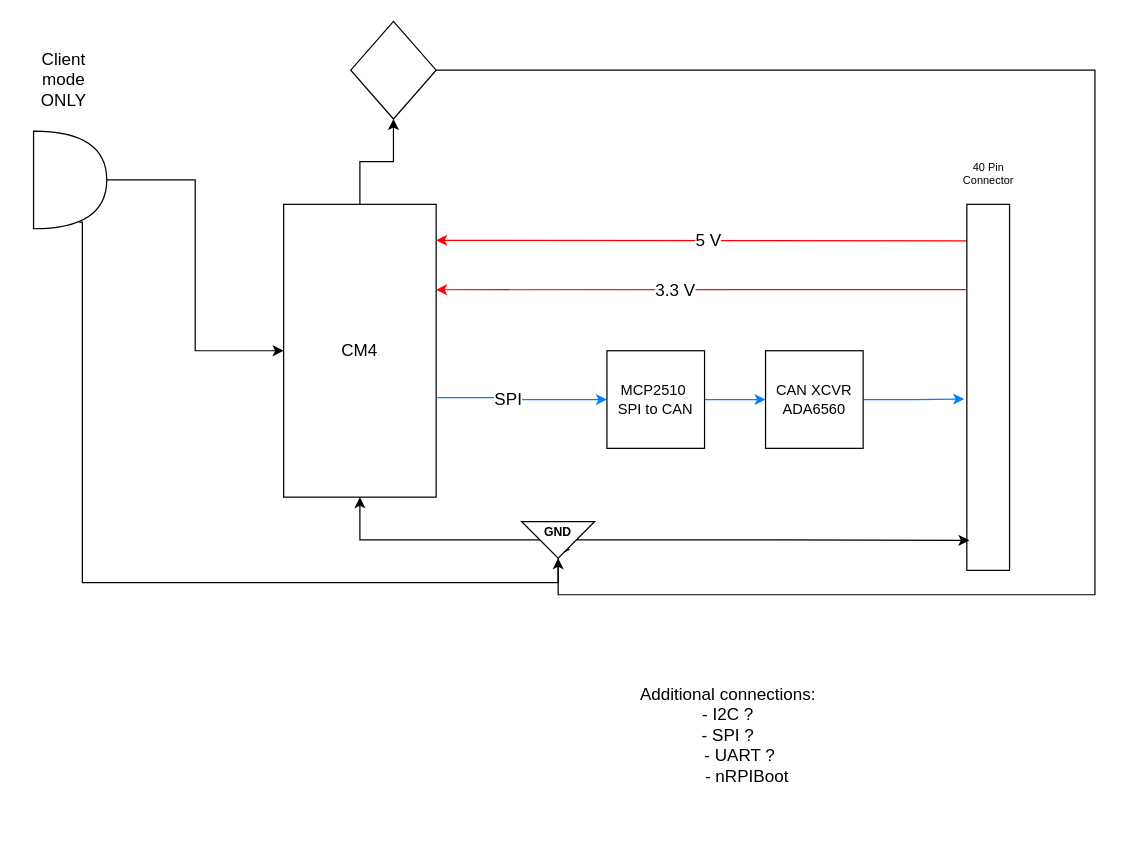
The diagram is 1126 pixels wide and 848 high, and some of its shapes have lost their labels. The centre of each missing label's shape, as x and y in pixels:
"Power Led" belongs at point 393,69.
"USB-b" belongs at point 69,179.
